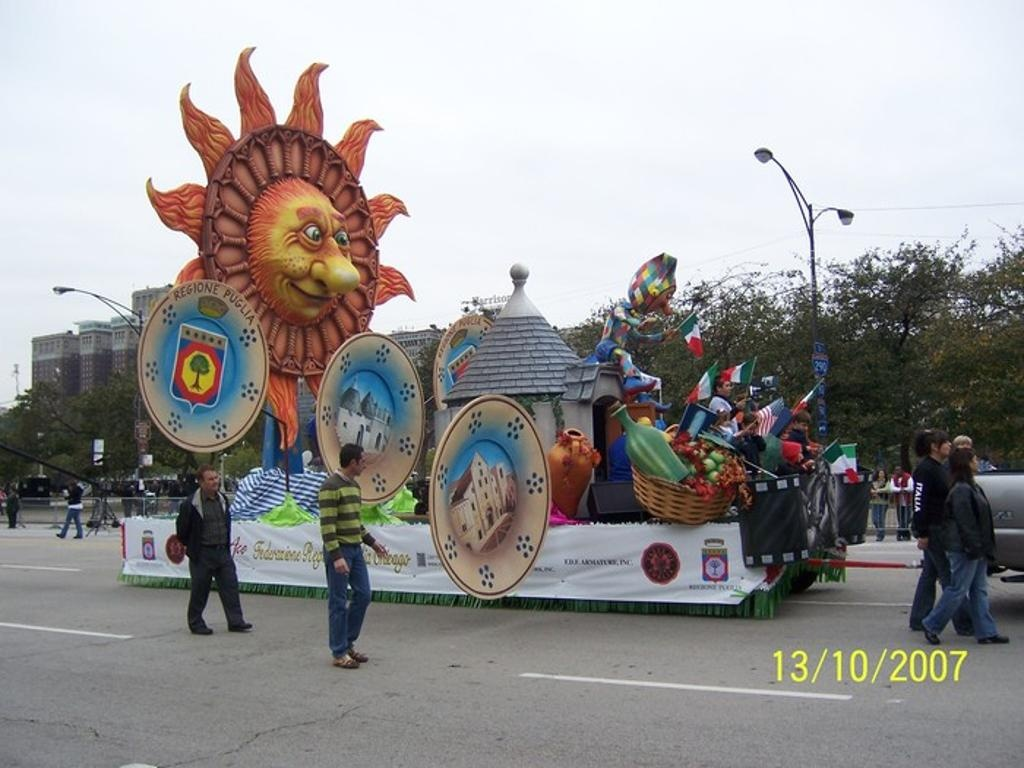human_face: (203, 470, 219, 488), (354, 451, 366, 475), (938, 437, 950, 455), (721, 380, 733, 394), (746, 421, 758, 434), (956, 442, 968, 454), (796, 418, 808, 430), (968, 455, 976, 469), (784, 416, 792, 430), (716, 409, 726, 419), (737, 390, 745, 398), (894, 467, 900, 475), (877, 471, 883, 477)
